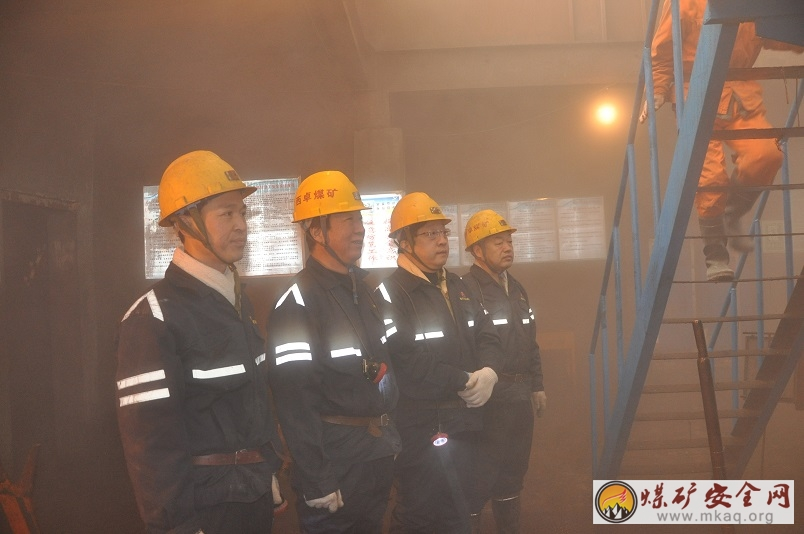helmet: (157, 145, 262, 270), (288, 161, 369, 269), (387, 184, 456, 276), (464, 198, 523, 275)
